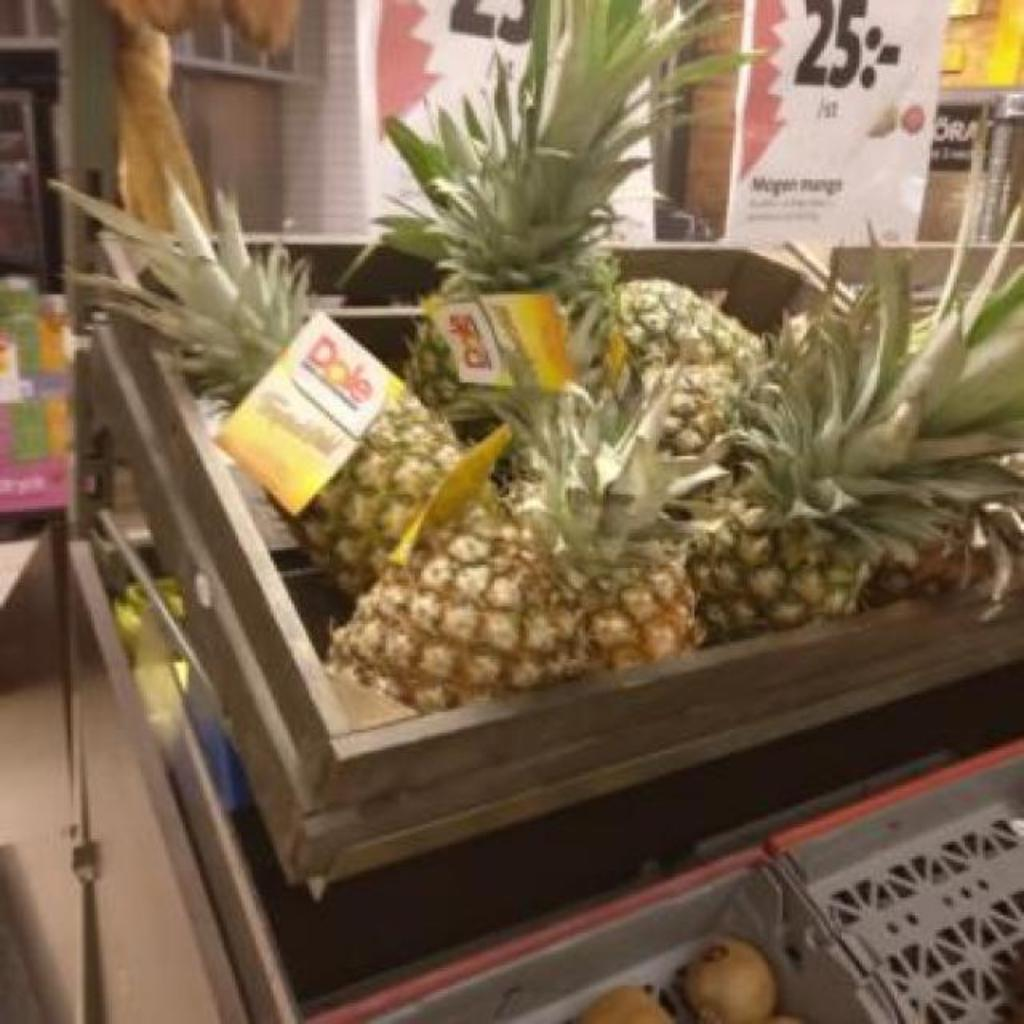pineapple: (686, 270, 1024, 641), (333, 390, 702, 711), (87, 196, 306, 407), (298, 394, 462, 593), (620, 280, 762, 377)
